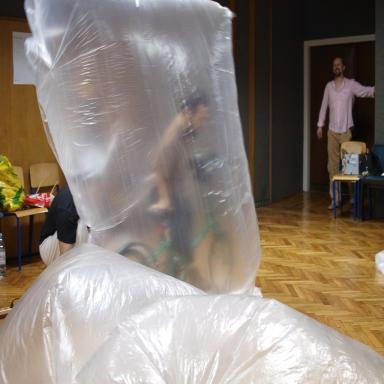clothing: (316, 80, 374, 201), (38, 181, 92, 266)
furniture: (0, 166, 48, 273), (29, 161, 60, 258), (331, 148, 369, 218), (334, 142, 365, 222), (358, 144, 384, 223)
humanface: (333, 58, 342, 76)
man: (38, 179, 105, 264)
plasticbag: (0, 153, 27, 215), (24, 192, 54, 208)
